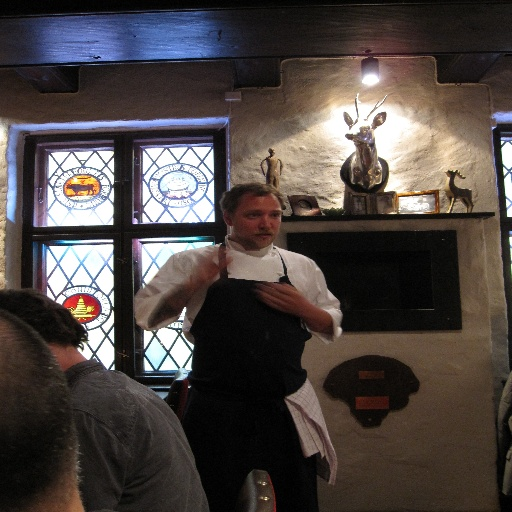hand: (191, 245, 234, 286), (260, 281, 306, 315)
